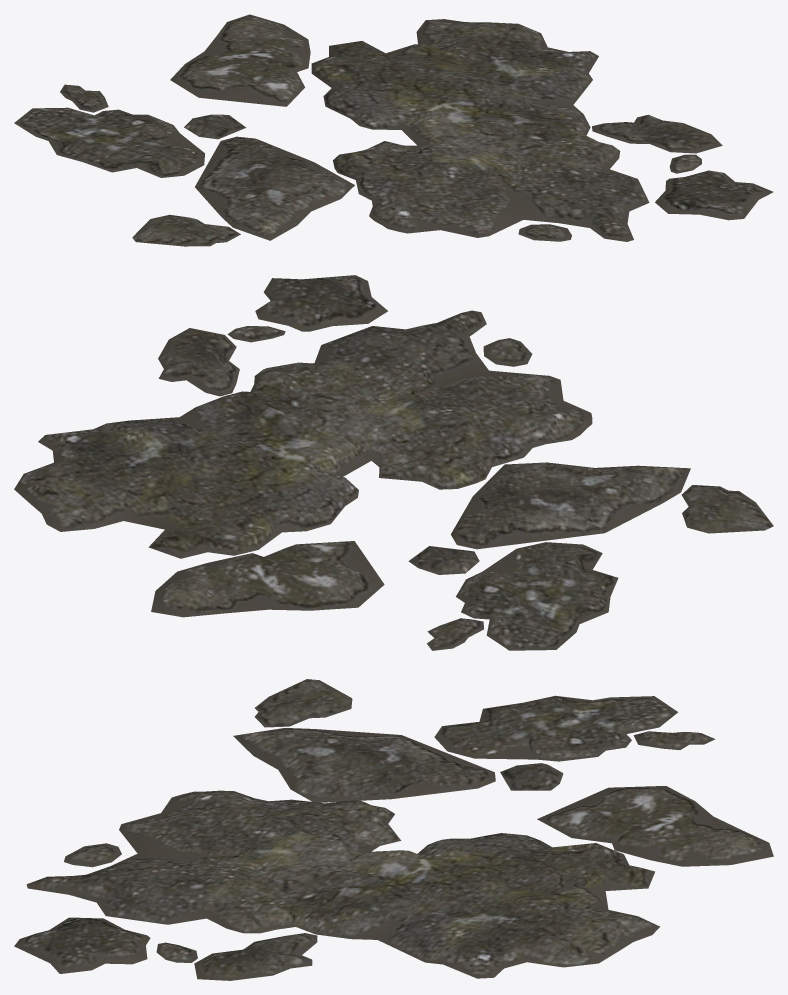
The model's file is sm20_022_sewagegroundgarbage02a.fbx.
The picture shows the model from 3 angles, top to bottom: view 1: azimuth 30°, elevation 25°; view 2: azimuth 150°, elevation 25°; view 3: azimuth 270°, elevation 25°; orthographic projection. The views are drawn at different scales.
Parts seen in each view (by area): view 1: LOD_1_Group_0_Sub_1__sm20_022_SewageGroundGarbage02A_A_Mat__; view 2: LOD_1_Group_0_Sub_1__sm20_022_SewageGroundGarbage02A_A_Mat__; view 3: LOD_1_Group_0_Sub_1__sm20_022_SewageGroundGarbage02A_A_Mat__.
Boxes of the visible parts, bbox=[...] form: LOD_1_Group_0_Sub_1__sm20_022_SewageGroundGarbage02A_A_Mat__: bbox=[14, 14, 773, 246]; LOD_1_Group_0_Sub_1__sm20_022_SewageGroundGarbage02A_A_Mat__: bbox=[14, 275, 773, 650]; LOD_1_Group_0_Sub_1__sm20_022_SewageGroundGarbage02A_A_Mat__: bbox=[14, 679, 773, 980].
Size of the model in its own units: 2.15 by 0.0474 by 2.28.
